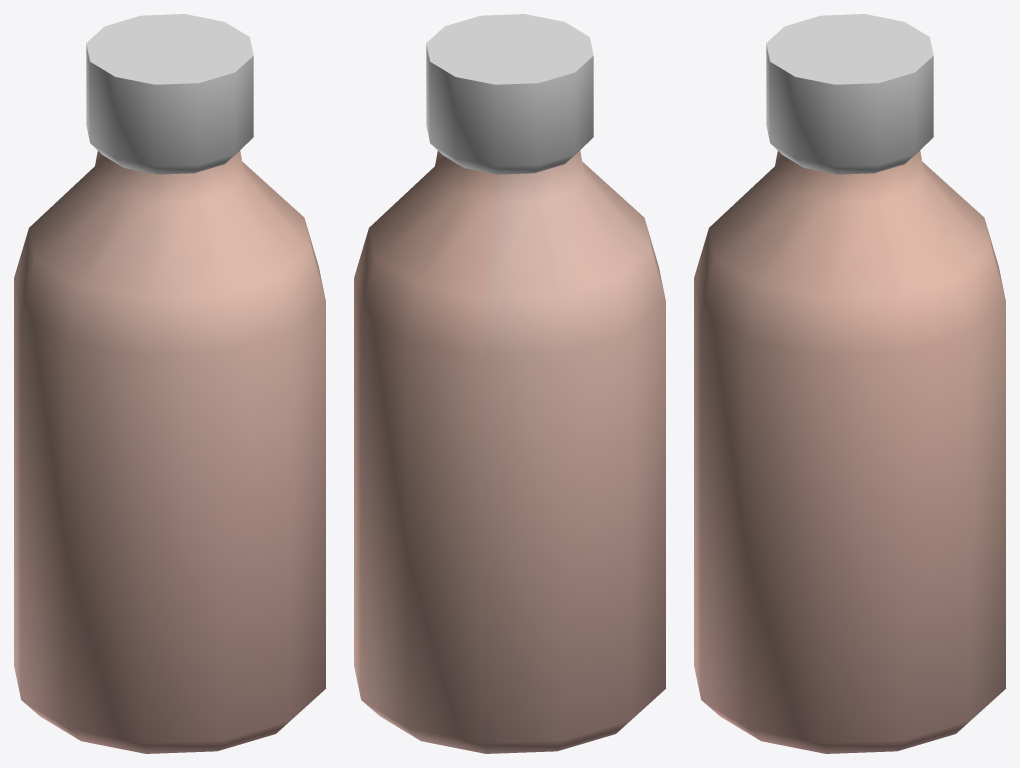
File: SM_drink_tea_04.fbx
The picture shows the model from 3 angles, left to right: view 1: azimuth 30°, elevation 25°; view 2: azimuth 150°, elevation 25°; view 3: azimuth 270°, elevation 25°; orthographic projection.
Visible parts, largest first — view 1: Cylinder065; view 2: Cylinder065; view 3: Cylinder065.
Part boxes in pixels (bbox=[...]): Cylinder065: bbox=[14, 14, 325, 753]; Cylinder065: bbox=[354, 14, 665, 753]; Cylinder065: bbox=[694, 14, 1005, 753].
Size of the model in its own units: 8.86 by 20.28 by 8.86.
